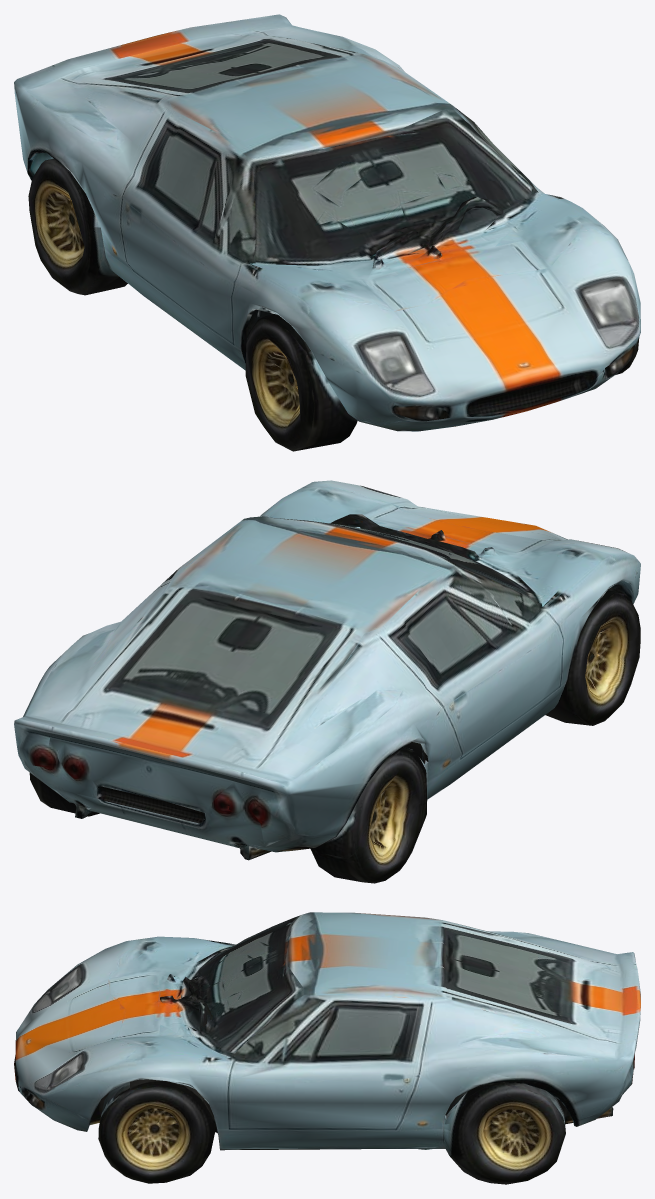
3 views of the same model, one above another, from view 1: azimuth 30°, elevation 25°; view 2: azimuth 150°, elevation 25°; view 3: azimuth 270°, elevation 25° (orthographic). The views are drawn at different scales.
Parts seen in each view (by area): view 1: textured; view 2: textured; view 3: textured.
Part boxes in pixels (box(x1,y1,x2,y2)): textured: box(14, 14, 640, 451); textured: box(14, 480, 640, 883); textured: box(14, 912, 640, 1184).
Size of the model in its own units: 1.02 by 0.6117 by 1.99.
Materials: 1 (1 with a texture image).
